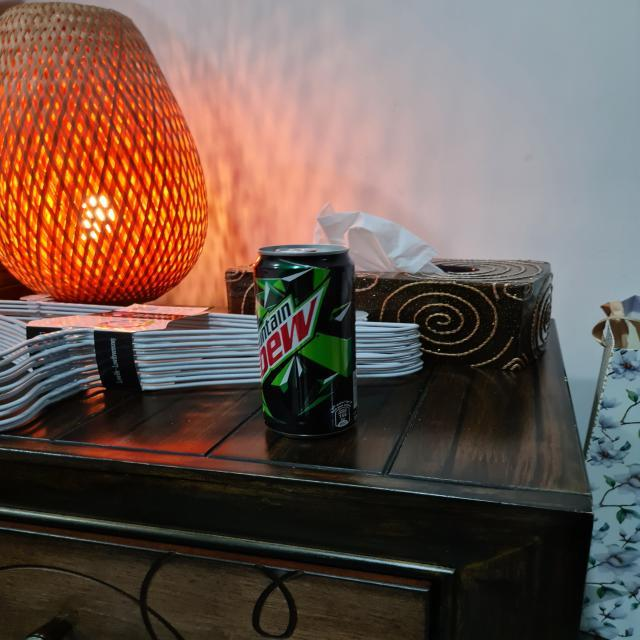can: (254, 242, 361, 445)
